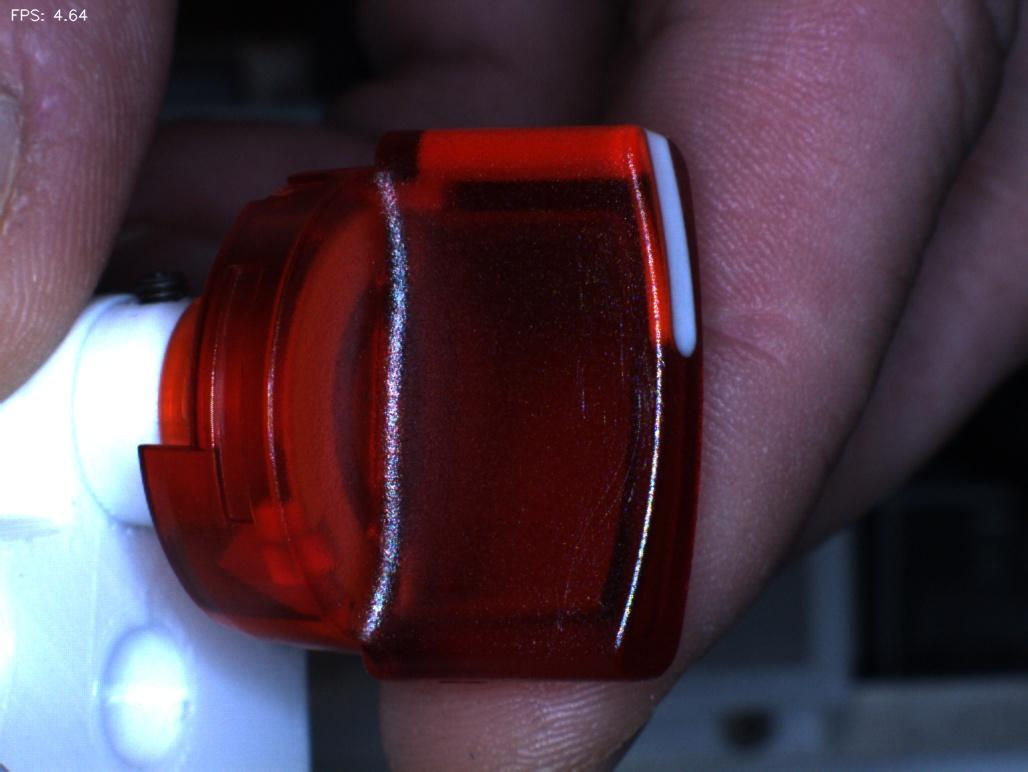Givrage: (579, 298, 659, 536), (531, 541, 608, 666)
